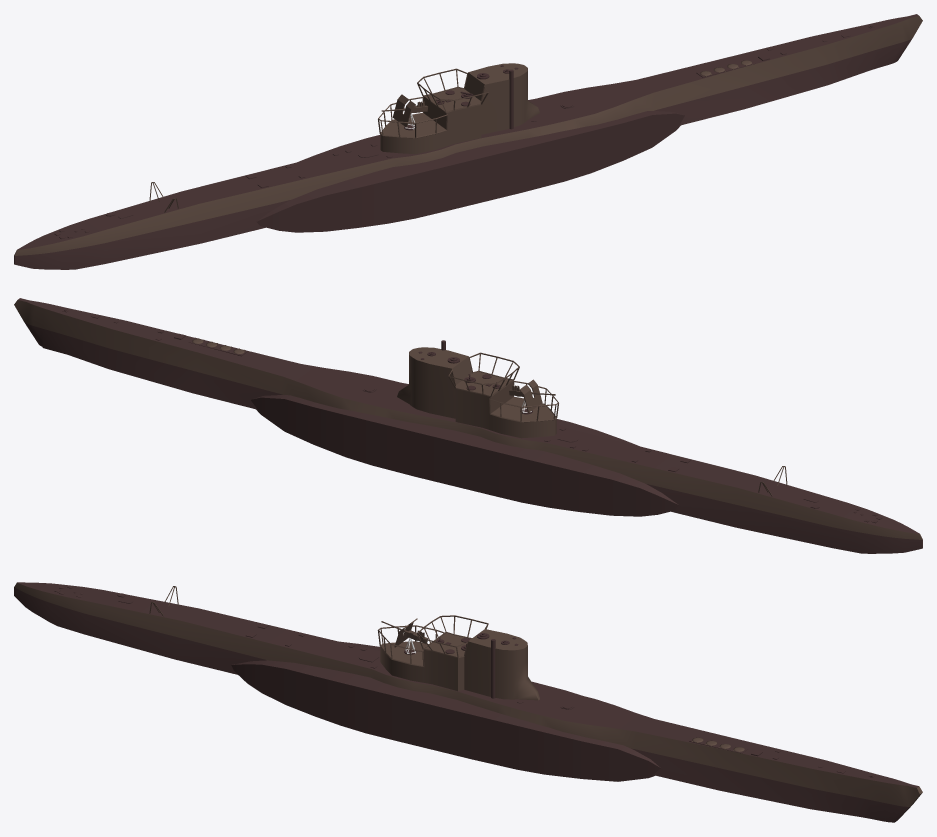
File: TypeViiC_joined.glb
3 renders of one model, top to bottom at view 1: azimuth 30°, elevation 25°; view 2: azimuth 150°, elevation 25°; view 3: azimuth 330°, elevation 25°, orthographic.
Parts seen in each view (by area): view 1: Hull; view 2: Hull; view 3: Hull.
Boxes of the visible parts, <box> form: Hull: <box>14,14,922,269</box>; Hull: <box>14,298,922,553</box>; Hull: <box>14,582,922,822</box>.
Bounding box in the file's own units: 67.12 × 7.75 × 6.31.
